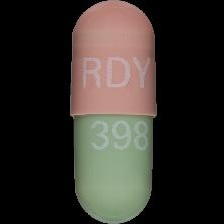42254-331: (0, 0, 224, 224)
